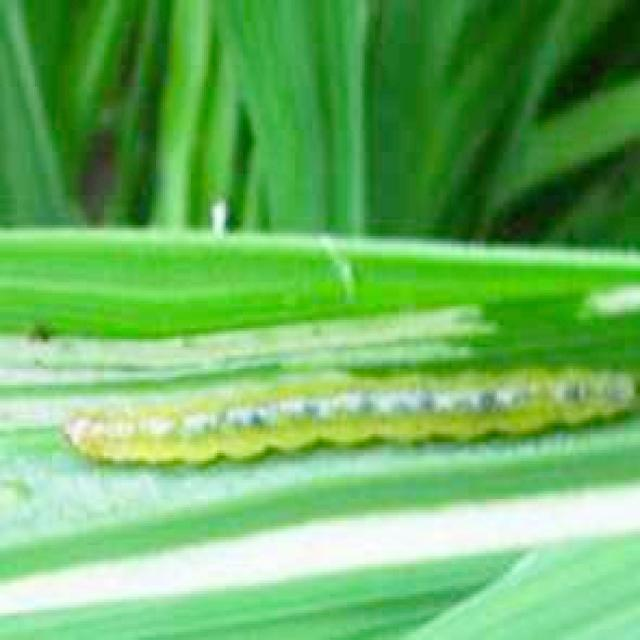leaf-folder: (50, 303, 640, 532)
